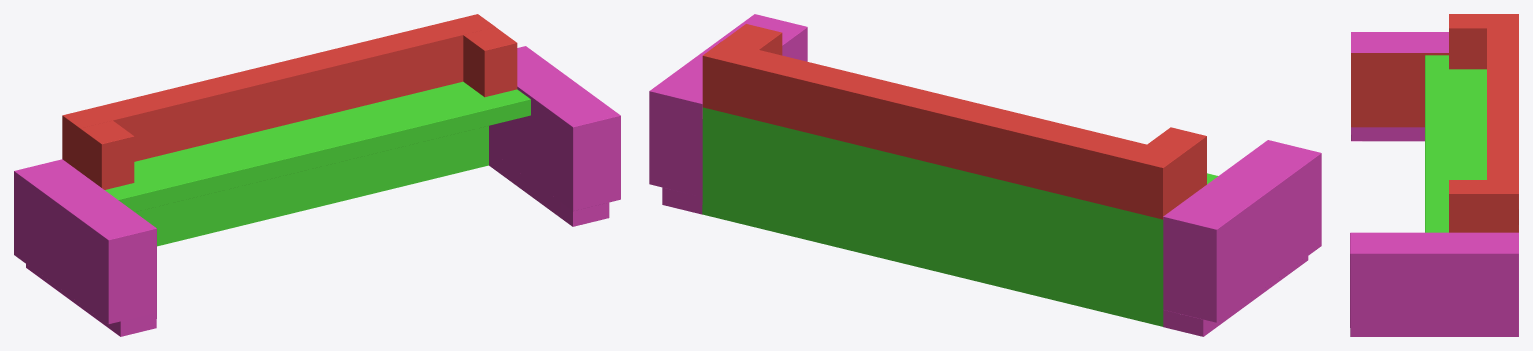
File: desk.fbx
3 renders of one model, left to right at view 1: azimuth 30°, elevation 25°; view 2: azimuth 150°, elevation 25°; view 3: azimuth 270°, elevation 25°, orthographic. The views are drawn at different scales.
Visible parts, largest first — view 1: Cube.003, Cube.004, Cube.002, Cube.001; view 2: Cube.003, Cube.004, Cube.002, Cube.001; view 3: Cube.001, Cube.004, Cube.003, Cube, Cube.002.
Boxes of the visible parts, x1=… form: Cube.003: x1=105, y1=81, x2=530, y2=246; Cube.004: x1=62, y1=14, x2=517, y2=189; Cube.002: x1=14, y1=159, x2=156, y2=336; Cube.001: x1=489, y1=46, x2=620, y2=226; Cube.003: x1=702, y1=107, x2=1217, y2=326; Cube.004: x1=702, y1=24, x2=1206, y2=219; Cube.002: x1=1163, y1=140, x2=1321, y2=336; Cube.001: x1=649, y1=14, x2=807, y2=214; Cube.001: x1=1350, y1=232, x2=1518, y2=336; Cube.004: x1=1449, y1=14, x2=1518, y2=232; Cube.003: x1=1425, y1=55, x2=1486, y2=232; Cube: x1=1351, y1=53, x2=1448, y2=127; Cube.002: x1=1351, y1=32, x2=1448, y2=141.
Bounding box in the file's own units: 493 × 132 × 158.
